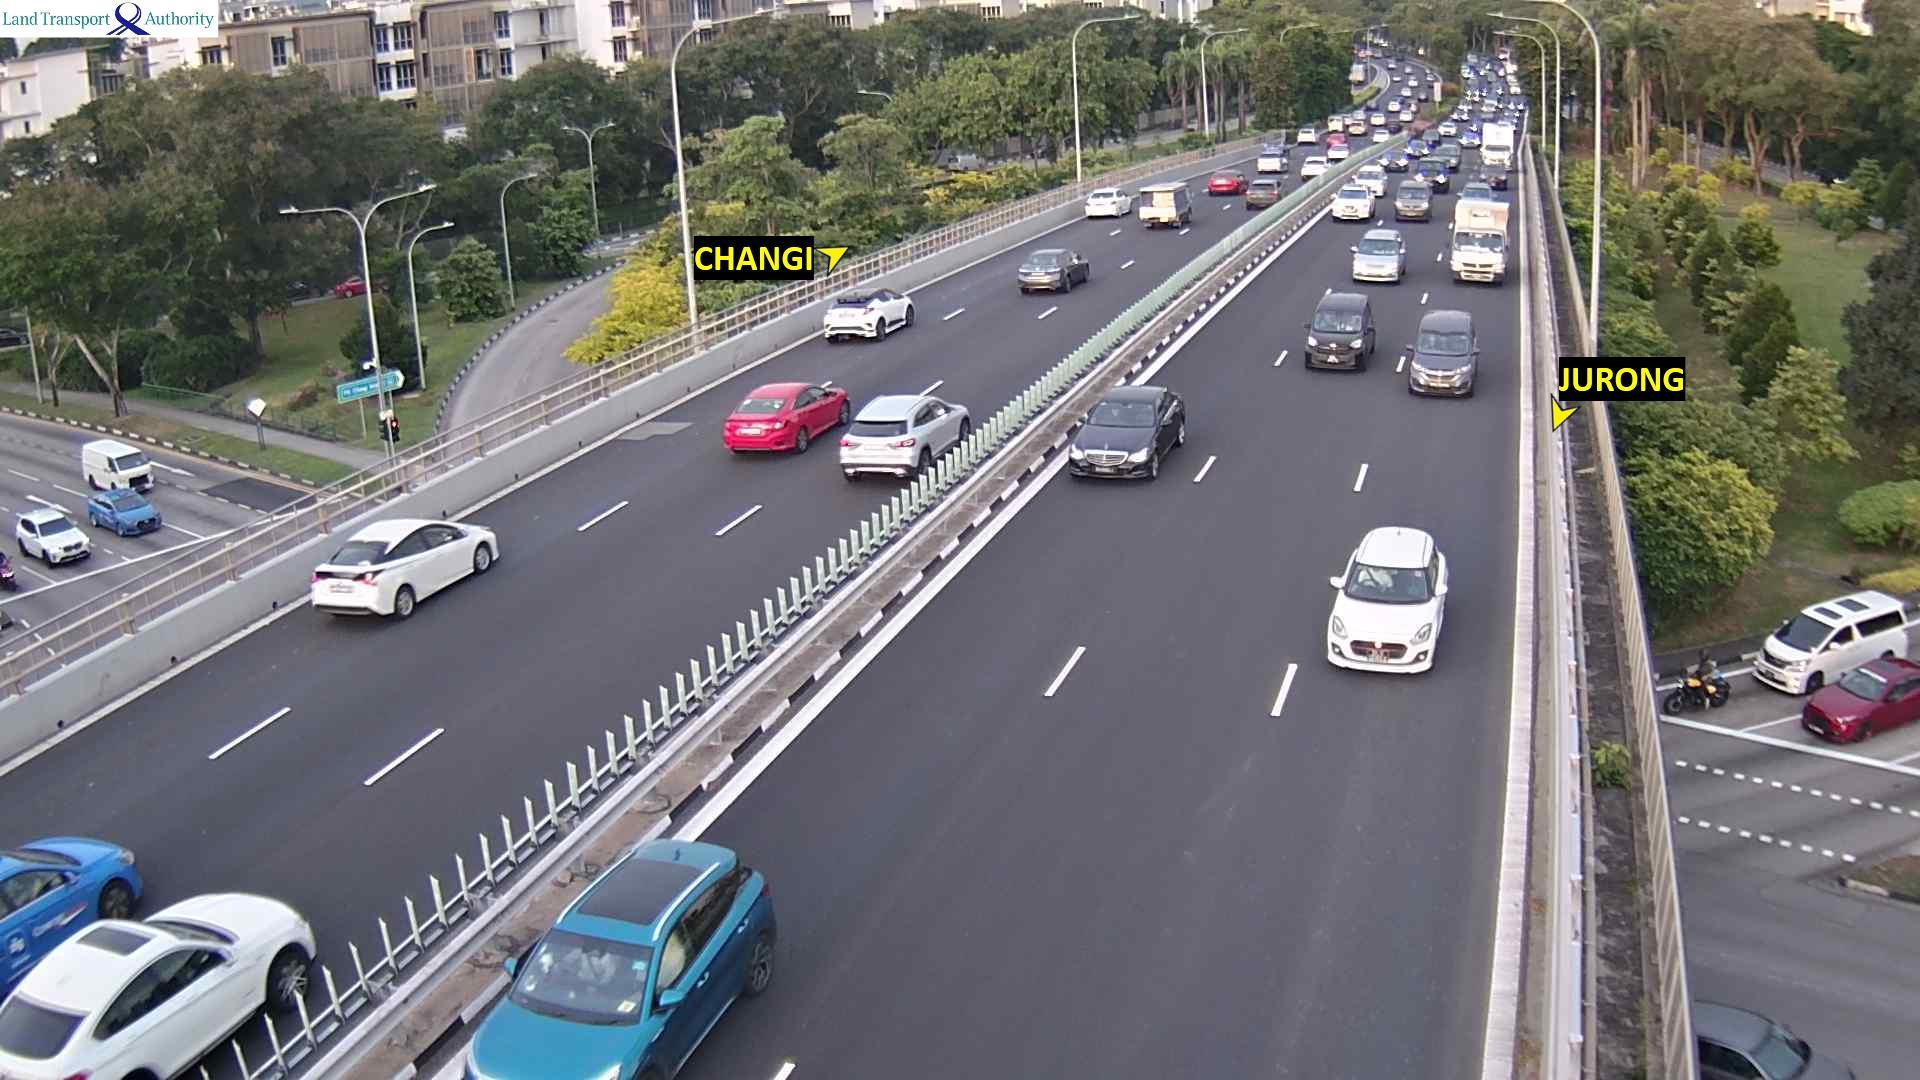incoming: (496, 930, 683, 1080), (1325, 567, 1449, 674), (1073, 398, 1167, 483), (1408, 331, 1480, 396), (1305, 309, 1371, 372), (1452, 232, 1506, 286), (1349, 240, 1408, 284), (1480, 127, 1519, 164), (1331, 190, 1373, 222), (1396, 185, 1431, 222), (1349, 169, 1391, 187), (1415, 162, 1448, 183), (1477, 164, 1509, 185), (1379, 152, 1412, 169), (1403, 142, 1431, 157)
